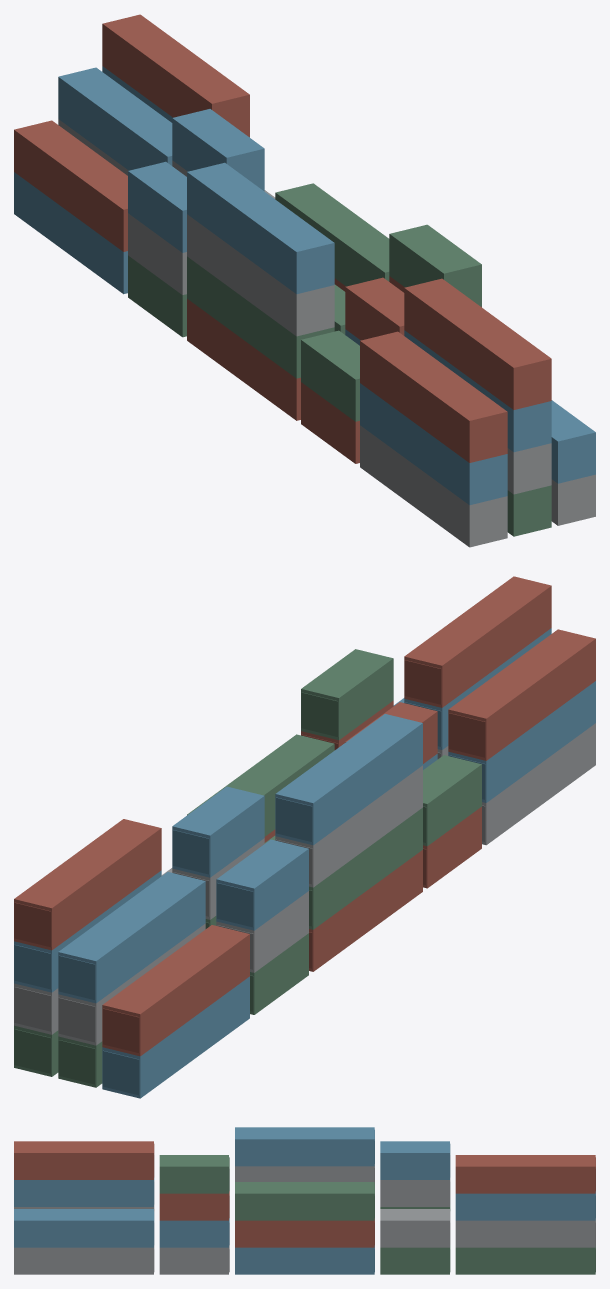
File: hk-container-yard-stack.glb
3 views of the same model, one above another, from view 1: azimuth 30°, elevation 25°; view 2: azimuth 150°, elevation 25°; view 3: azimuth 270°, elevation 25° (orthographic). The views are drawn at different scales.
Visible parts, largest first — view 1: yard-stack; view 2: yard-stack; view 3: yard-stack.
Boxes of the visible parts, left/top/right/bottom form: yard-stack: left=14, top=14, right=595, bottom=547; yard-stack: left=14, top=576, right=595, bottom=1098; yard-stack: left=14, top=1127, right=595, bottom=1274.
Bounding box in the file's own units: 8.12 × 10.36 × 50.73.
